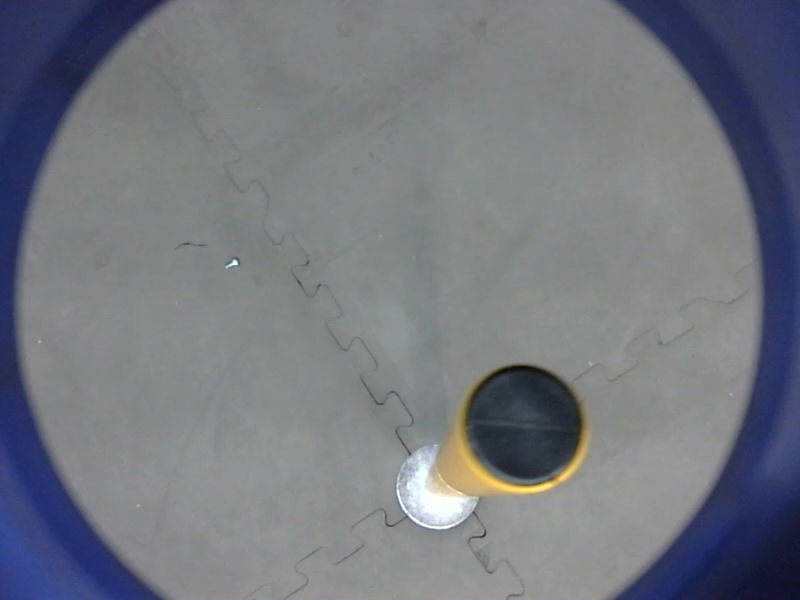tip: (450, 355, 599, 500)
